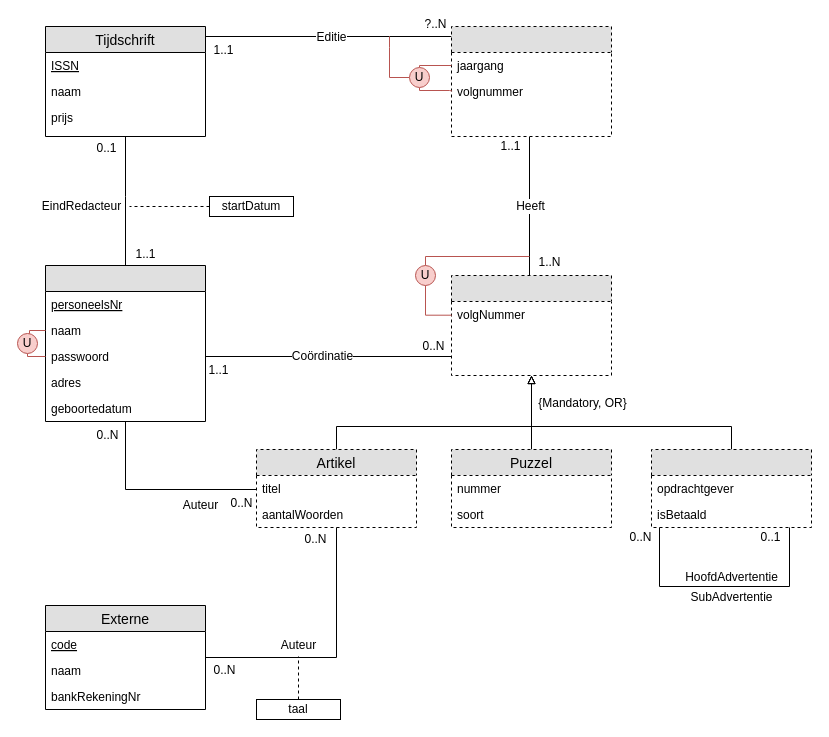
Some shapes in this 829 by 737 pixel diagram are drawn without their labels. Each missing label, with the box of its shape:
Advertentie: (650, 448, 812, 528)
Personeelslid: (44, 264, 206, 422)
Rubriek: (450, 274, 612, 376)
TijdschriftNummer: (450, 26, 612, 136)
